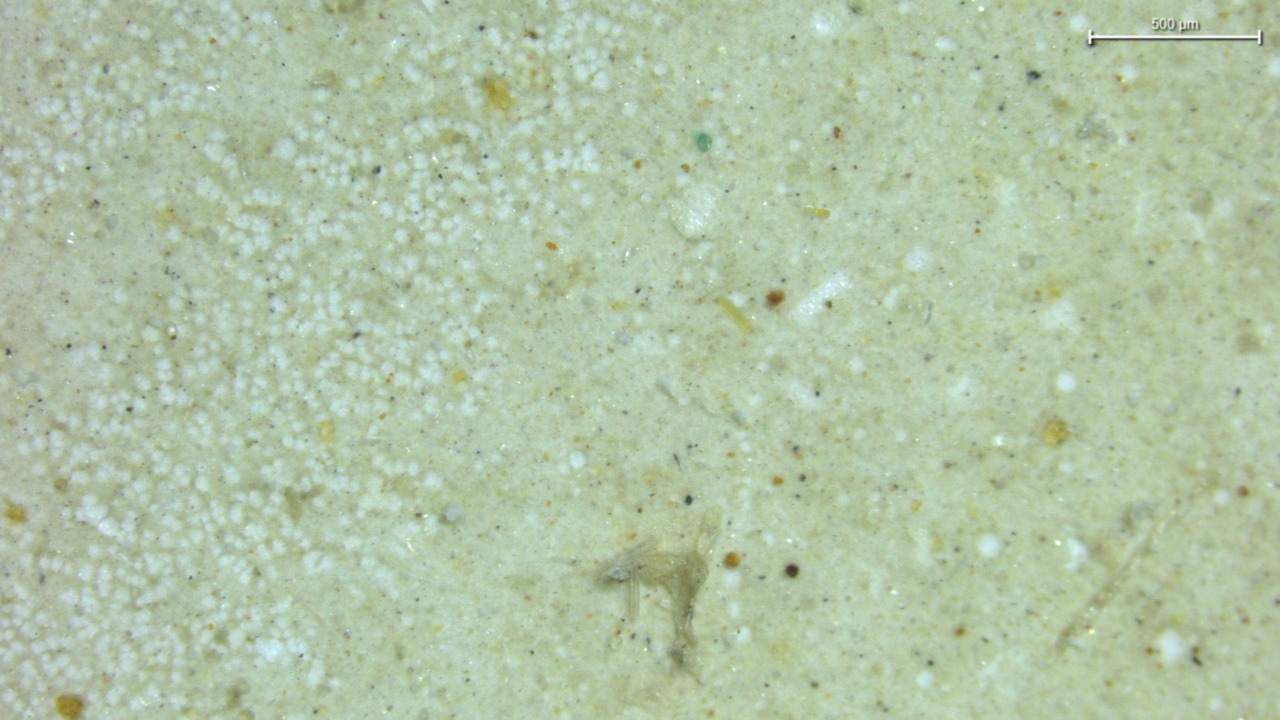microplastic_fragment: (602, 518, 718, 669), (443, 503, 466, 524)
